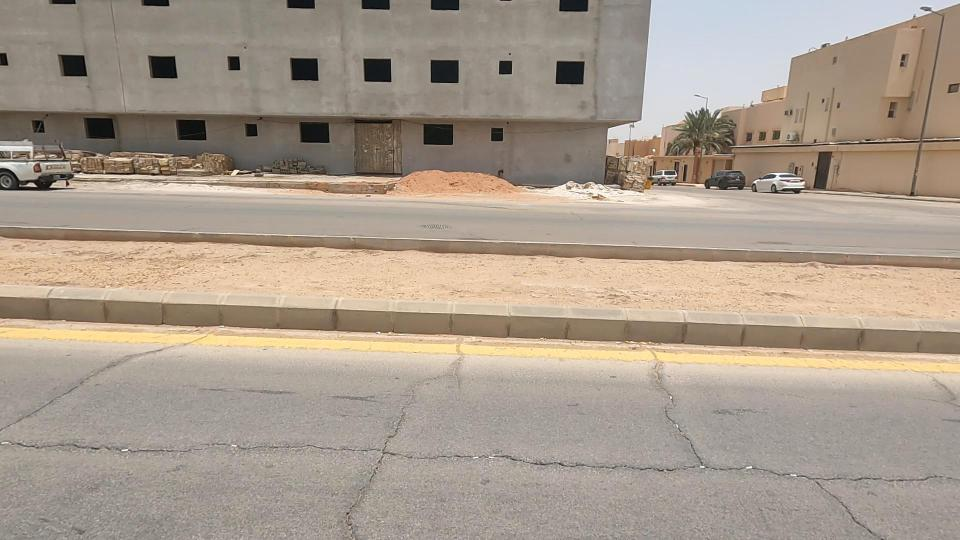CLUTTER_SIDEWALK: (189, 194, 960, 382), (0, 179, 464, 362)
SAND_ON_ROAD: (339, 130, 585, 231)
